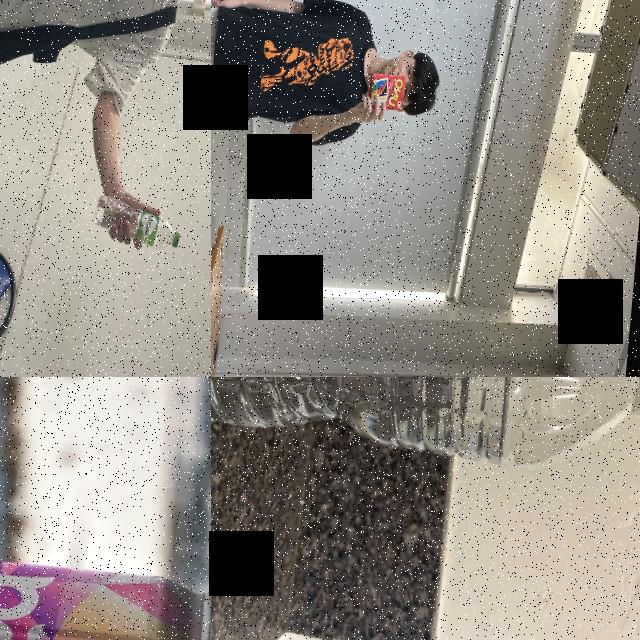bottle: (211, 377, 640, 483), (90, 192, 184, 251)
can: (0, 532, 211, 640)
